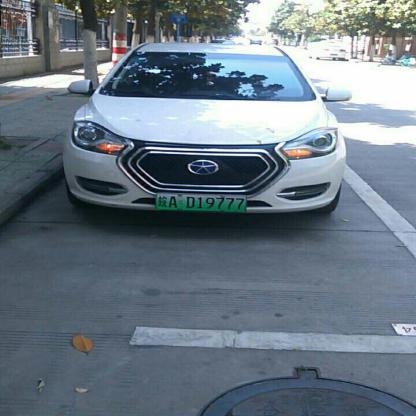lp: (156, 193, 246, 212)
